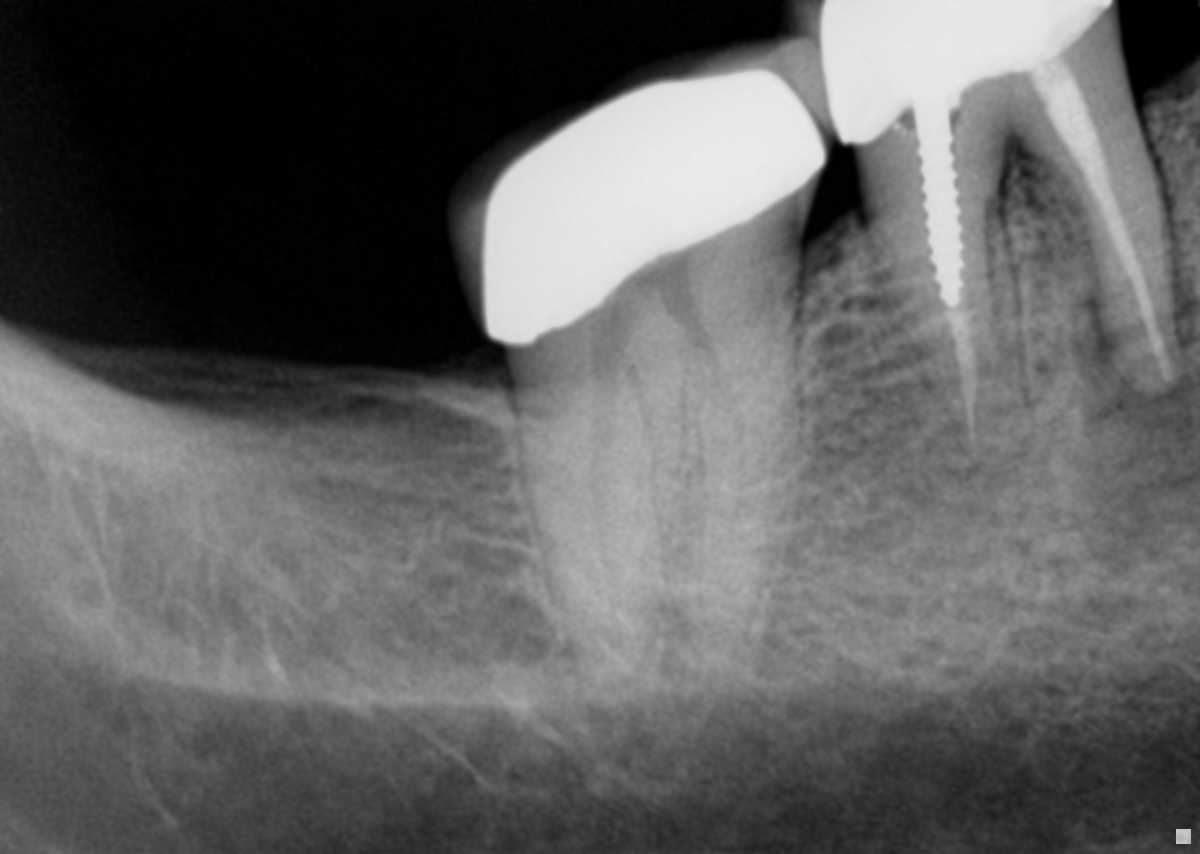Apical Lesion: (1068, 298, 1200, 551)
Distal Canal: (592, 370, 634, 653)
Distal Root: (506, 367, 681, 686), (868, 169, 1028, 463)
Mesial Canal: (701, 338, 749, 580)
Mesial Root: (1031, 96, 1184, 391), (686, 295, 801, 663)
Root Canal Filling: (1031, 57, 1173, 382), (945, 307, 977, 445)
